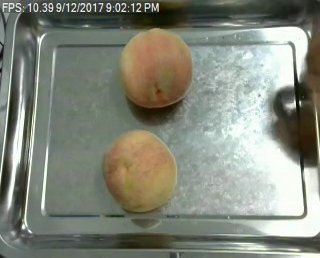Peach: (102, 128, 177, 212), (119, 27, 193, 107)
